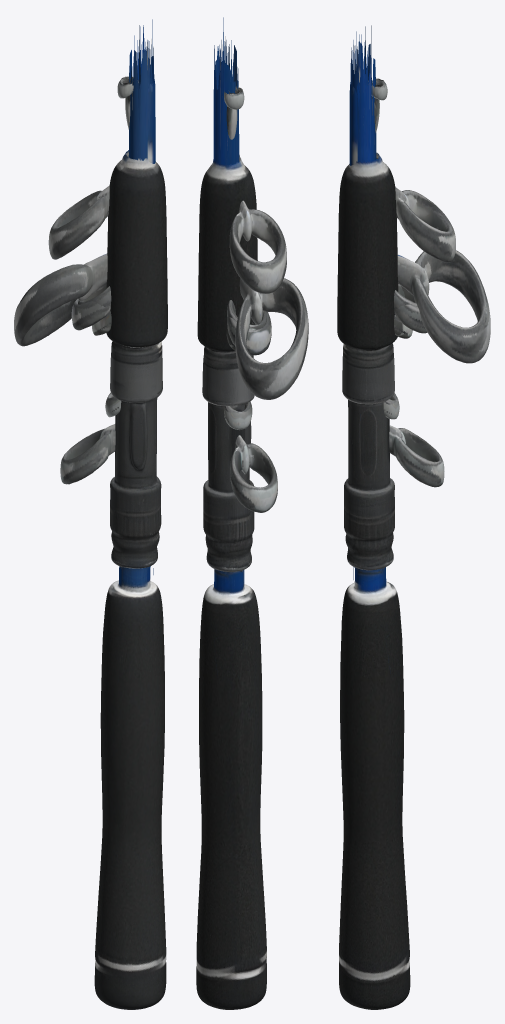
File: spin_kaminari.glb
3 renders of one model, left to right at view 1: azimuth 90°, elevation 25°; view 2: azimuth 210°, elevation 25°; view 3: azimuth 270°, elevation 25°, orthographic.
Parts seen in each view (by area): view 1: Handle, Seg0, Seg2, Seg4, Seg5, Seg8, Seg6, Seg7; view 2: Handle, Seg0, Seg2, Seg4, Seg5, Seg8, Seg6, Seg1, Seg9; view 3: Handle, Seg0, Seg2, Seg4, Seg5, Seg8, Seg7, Seg6.
Part boxes in pixels (x1=…): Handle: x1=94, y1=150, x2=167, y2=1009; Seg0: x1=14, y1=25, x2=153, y2=346; Seg2: x1=48, y1=78, x2=155, y2=566; Seg4: x1=60, y1=19, x2=153, y2=574; Seg5: x1=71, y1=25, x2=151, y2=330; Seg8: x1=105, y1=42, x2=149, y2=417; Seg6: x1=78, y1=42, x2=150, y2=306; Seg7: x1=92, y1=40, x2=150, y2=335; Handle: x1=196, y1=155, x2=266, y2=1009; Seg0: x1=213, y1=45, x2=308, y2=399; Seg2: x1=213, y1=83, x2=286, y2=293; Seg4: x1=216, y1=17, x2=277, y2=512; Seg5: x1=218, y1=40, x2=271, y2=355; Seg8: x1=220, y1=49, x2=252, y2=430; Seg6: x1=218, y1=44, x2=266, y2=329; Seg1: x1=215, y1=45, x2=236, y2=141; Seg9: x1=226, y1=93, x2=237, y2=139; Handle: x1=337, y1=152, x2=410, y2=1009; Seg0: x1=351, y1=34, x2=490, y2=363; Seg2: x1=349, y1=80, x2=455, y2=262; Seg4: x1=352, y1=34, x2=444, y2=579; Seg5: x1=353, y1=26, x2=427, y2=333; Seg8: x1=355, y1=46, x2=399, y2=419; Seg7: x1=355, y1=31, x2=412, y2=338; Seg6: x1=355, y1=41, x2=417, y2=309.
Size of the model in its own units: 0.0452 by 0.6767 by 0.0957.
Materials: 1 (1 with a texture image).
